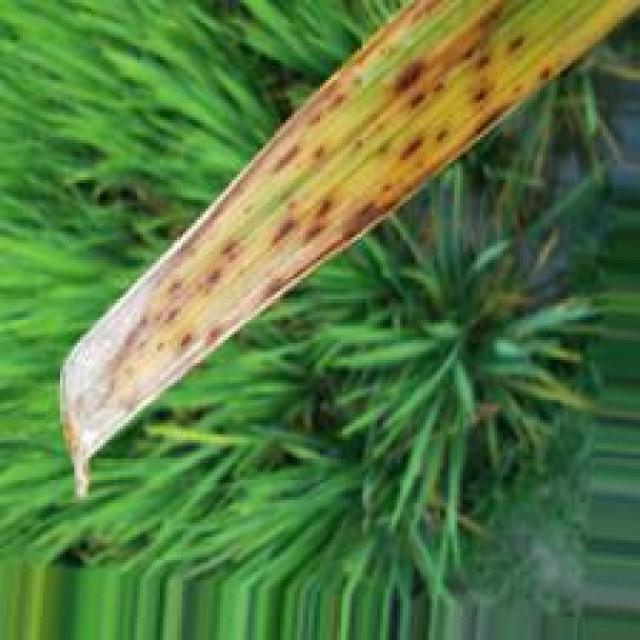Narrow_Brown_Leaf_Spot: (53, 0, 640, 496)
